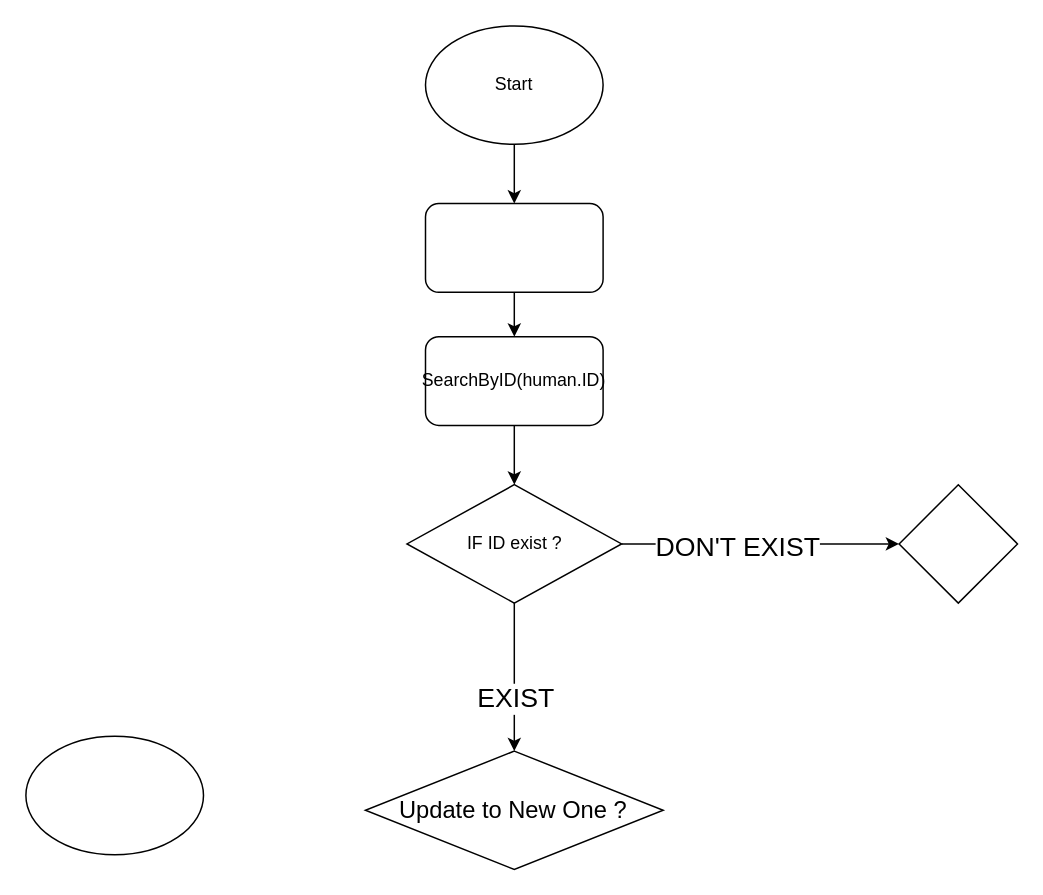
Image size: 1043x895. Some labels were removed from this diagram. Each missing label, with the box of its shape:
End: (24, 735, 204, 855)
Get Human Object (human): (424, 202, 603, 292)
